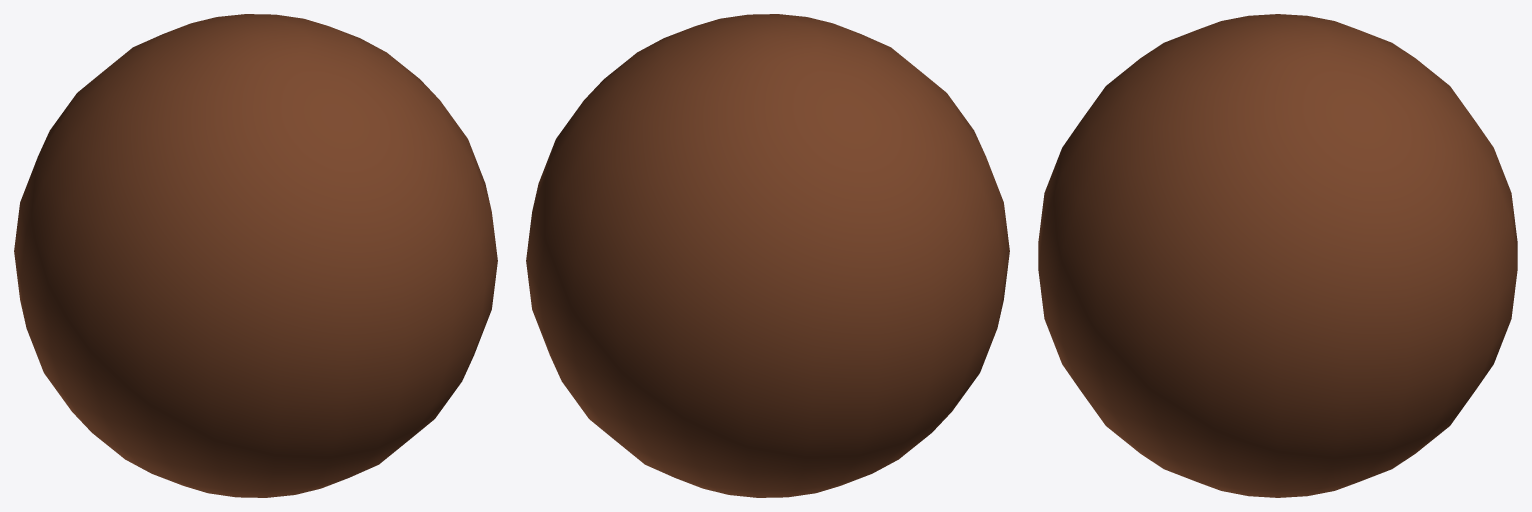
File: SnookerBall_Brown.fbx
3 views of the same model, side by side, from view 1: azimuth 30°, elevation 25°; view 2: azimuth 150°, elevation 25°; view 3: azimuth 270°, elevation 25° (orthographic).
Parts seen in each view (by area): view 1: SnoookerBall_Brown; view 2: SnoookerBall_Brown; view 3: SnoookerBall_Brown.
Boxes of the visible parts, bbox=[...] form: SnoookerBall_Brown: bbox=[14, 14, 497, 497]; SnoookerBall_Brown: bbox=[526, 14, 1009, 497]; SnoookerBall_Brown: bbox=[1038, 14, 1517, 497].
Size of the model in its own units: 0.052 by 0.052 by 0.0515.
Materials: 1 (1 with a texture image).
